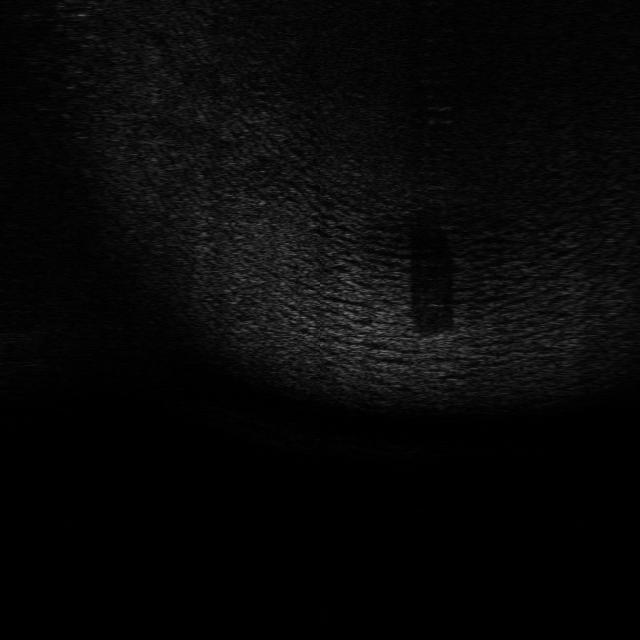cube: (416, 330, 456, 356)
